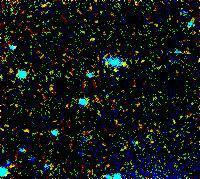star: (111, 51, 141, 81)
